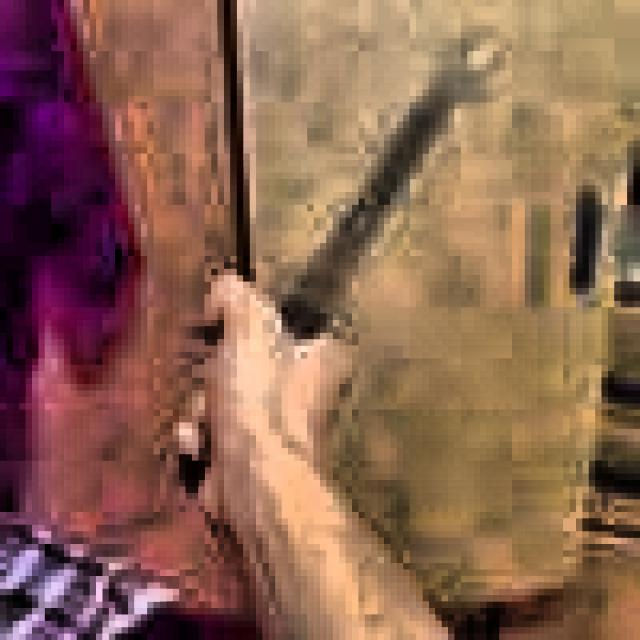knife: (179, 48, 498, 492)
